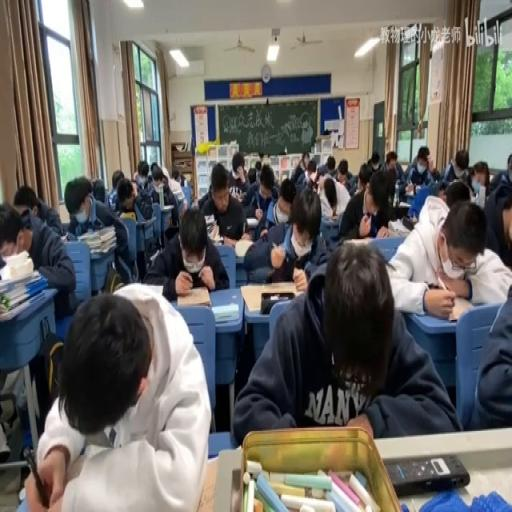calculator: (238, 281, 300, 313), (194, 455, 222, 509), (0, 289, 45, 320), (0, 268, 40, 294), (176, 286, 210, 308), (447, 297, 475, 323), (212, 300, 238, 322), (234, 238, 254, 258), (339, 234, 371, 244), (171, 185, 186, 203), (204, 214, 216, 234), (120, 209, 136, 221), (138, 215, 155, 226), (230, 184, 242, 199), (322, 214, 338, 224), (246, 215, 258, 226), (149, 248, 159, 260), (405, 183, 414, 195), (58, 232, 70, 240), (210, 235, 222, 243), (160, 204, 173, 210), (168, 213, 171, 226)
paper: (234, 242, 456, 442), (2, 194, 75, 445), (386, 196, 510, 317), (244, 183, 326, 283), (145, 205, 227, 300), (64, 174, 129, 290), (466, 279, 512, 431), (337, 168, 398, 243), (145, 160, 181, 228), (405, 145, 434, 186), (0, 210, 23, 256), (486, 154, 512, 194), (442, 148, 468, 183), (226, 151, 248, 192), (443, 179, 471, 209), (13, 185, 39, 217), (334, 155, 356, 191), (468, 161, 490, 195), (314, 154, 338, 184), (108, 169, 126, 208), (290, 152, 310, 186), (132, 159, 150, 192), (258, 165, 274, 199), (357, 160, 372, 190), (90, 176, 106, 202), (323, 184, 336, 214), (428, 179, 446, 196), (306, 160, 318, 184), (384, 152, 398, 171), (150, 166, 162, 185), (246, 166, 257, 184), (370, 152, 379, 171), (430, 168, 440, 182), (171, 168, 180, 182), (254, 160, 261, 174), (131, 170, 138, 180), (256, 150, 262, 160)
person: (384, 452, 470, 494), (230, 468, 242, 510), (396, 202, 410, 219), (402, 214, 416, 230)
